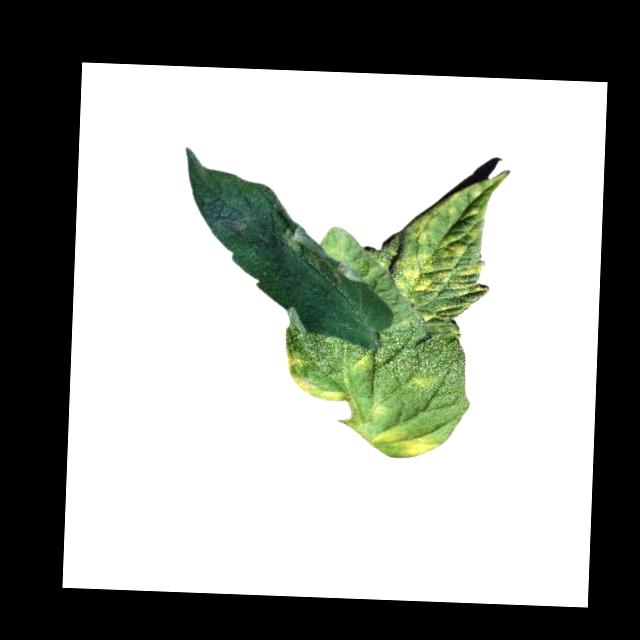Leaf_Mold: (391, 177, 493, 309), (279, 225, 363, 290), (285, 350, 348, 402), (374, 423, 439, 459), (408, 371, 432, 392), (356, 352, 374, 372)
